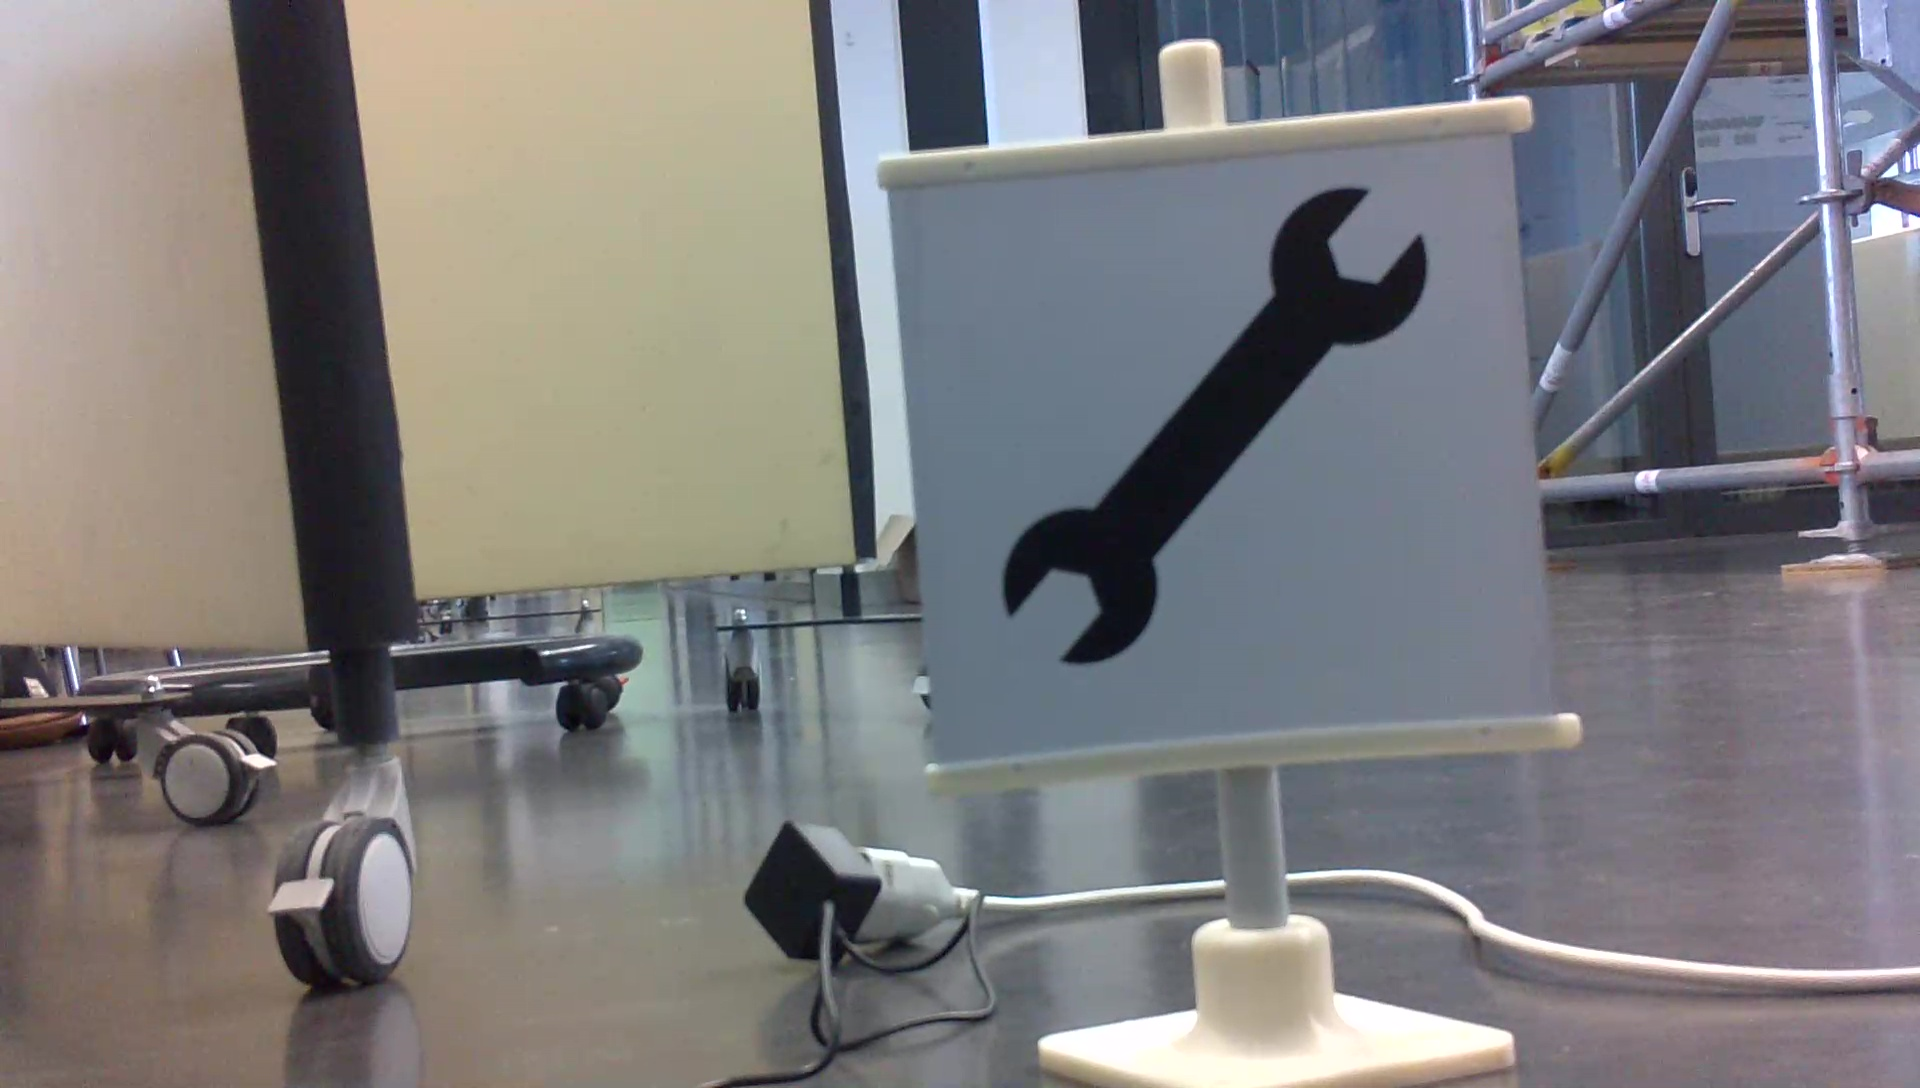wrench: (988, 175, 1435, 675)
